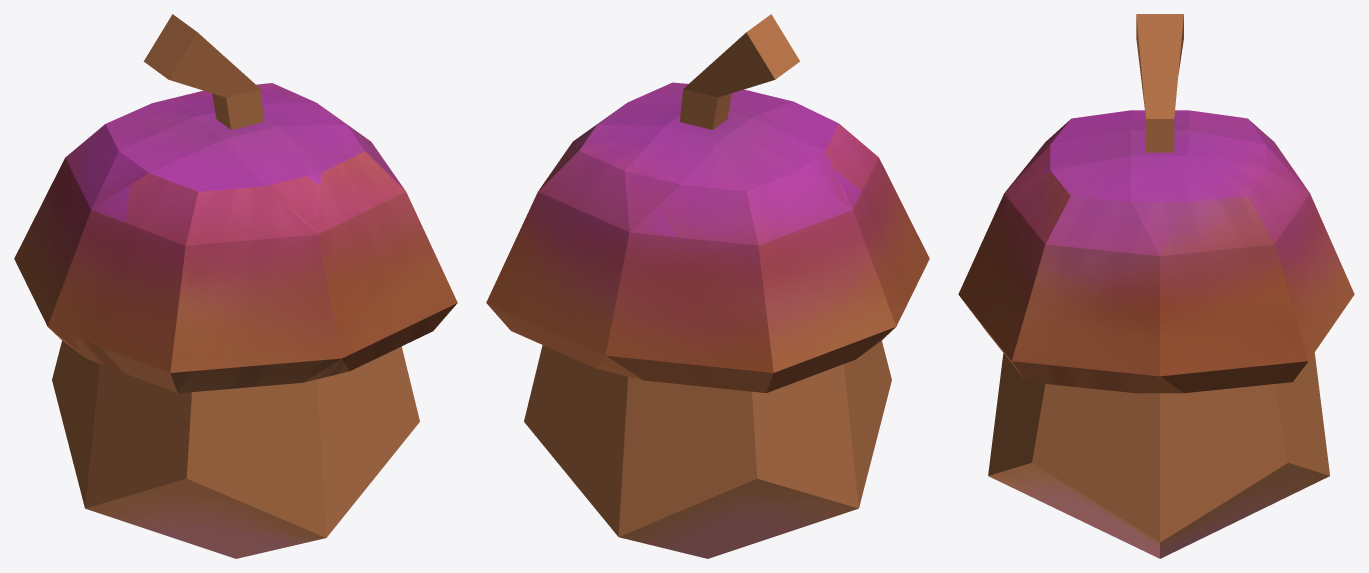
The model's file is acornbullet.fbx.
The picture shows the model from 3 angles, left to right: view 1: azimuth 30°, elevation 25°; view 2: azimuth 150°, elevation 25°; view 3: azimuth 270°, elevation 25°; orthographic projection. The views are drawn at different scales.
Visible parts, largest first — view 1: Куб, Cube, Куб.001; view 2: Куб, Cube, Куб.001; view 3: Куб, Cube, Куб.001.
Boxes of the visible parts, <box> form: Куб: <box>14,83,457,393</box>; Cube: <box>52,341,419,558</box>; Куб.001: <box>143,14,263,129</box>; Куб: <box>486,82,929,392</box>; Cube: <box>524,341,891,558</box>; Куб.001: <box>680,14,799,129</box>; Куб: <box>958,110,1354,393</box>; Cube: <box>988,353,1329,558</box>; Куб.001: <box>1136,14,1183,152</box>.
Bounding box in the file's own units: 313 × 449 × 309.
